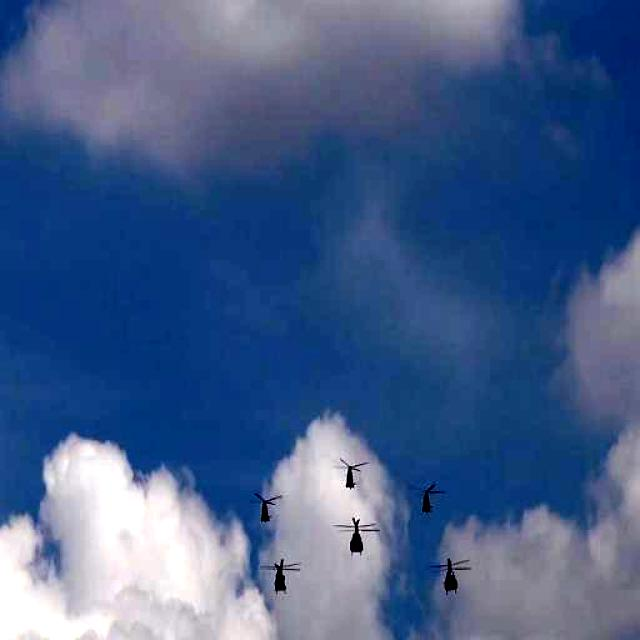drone: (335, 515, 380, 560), (261, 558, 304, 595), (431, 556, 470, 596), (410, 479, 449, 516), (250, 488, 285, 525), (332, 458, 369, 489)
